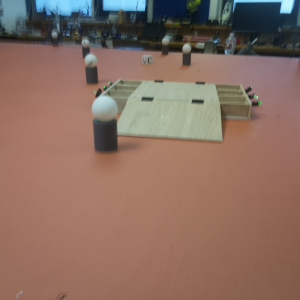blockC: (140, 55, 154, 66)
obstacle: (93, 97, 118, 149), (85, 54, 96, 82), (183, 43, 192, 68), (81, 39, 90, 57), (50, 31, 58, 46), (163, 38, 169, 54)
side: (221, 82, 262, 122), (95, 79, 123, 105)
slope: (120, 99, 223, 144)
